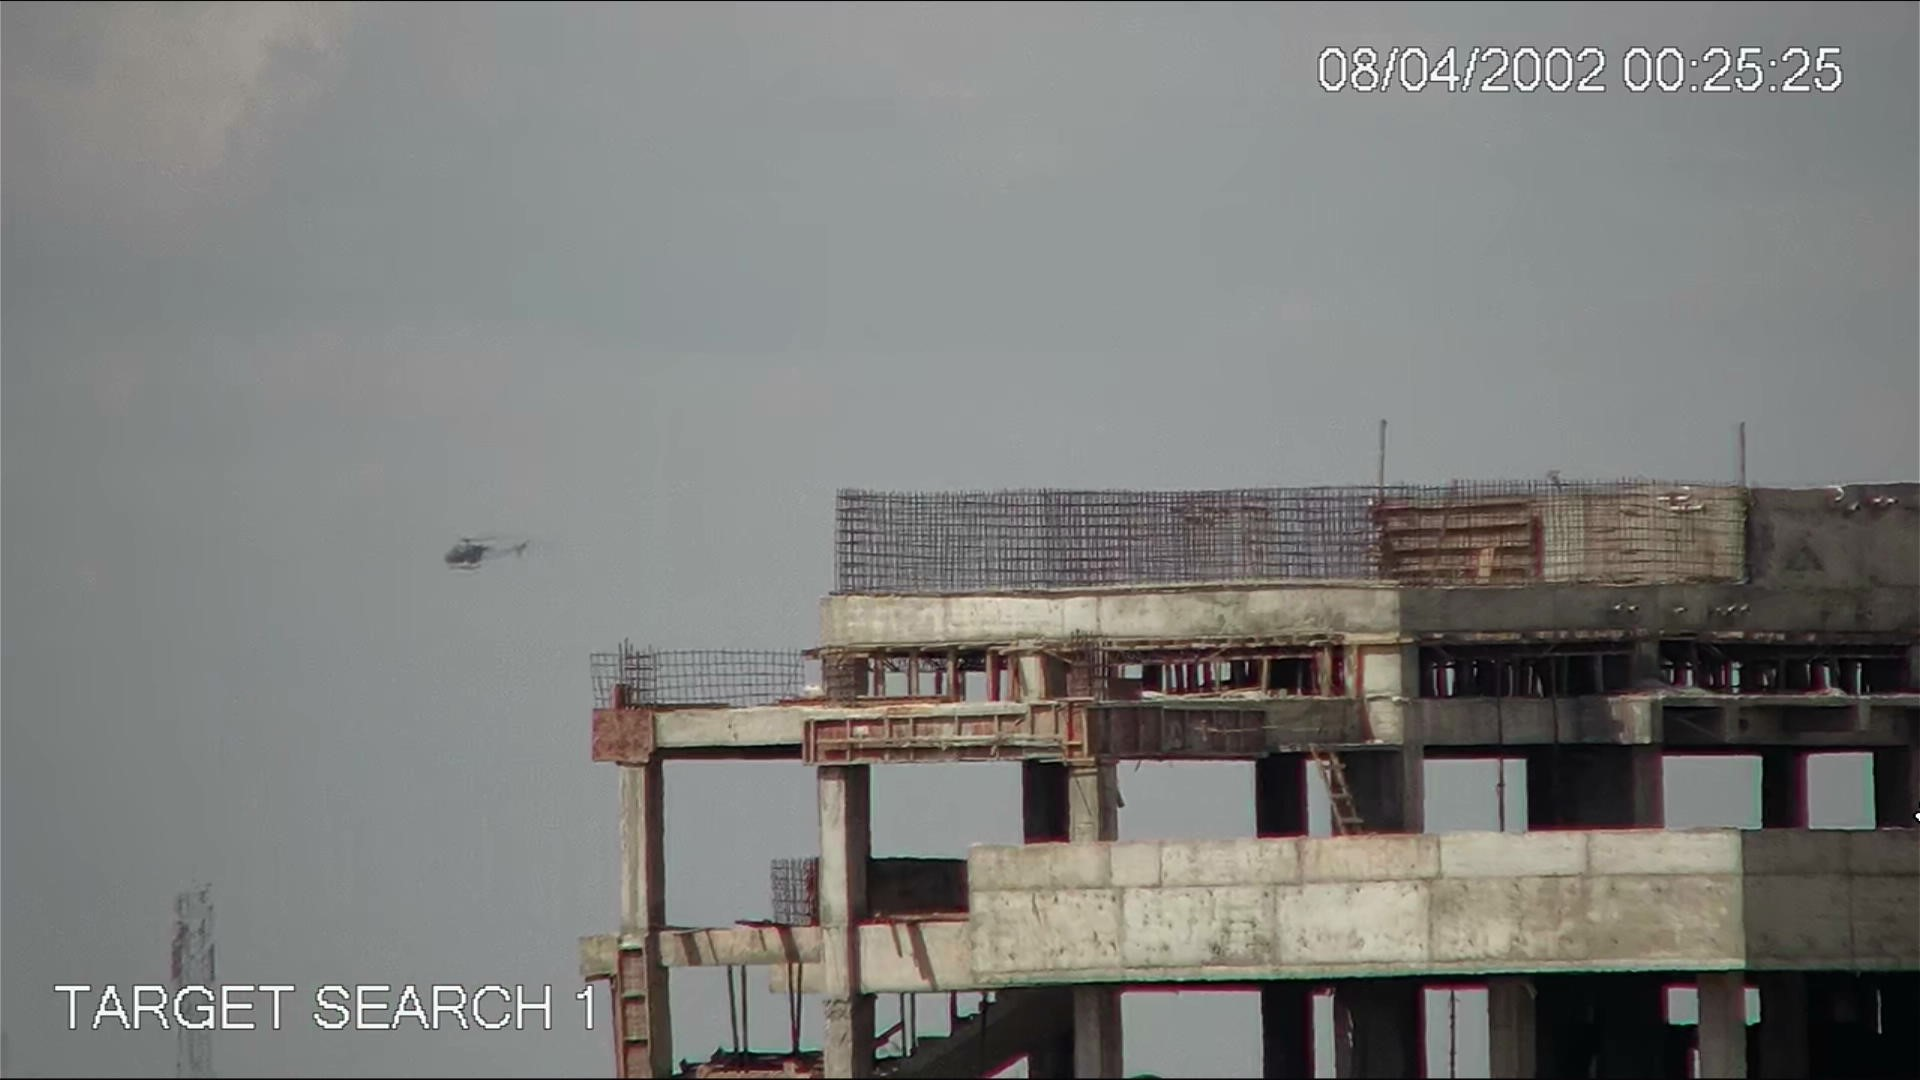SU_30: (436, 526, 537, 572)
